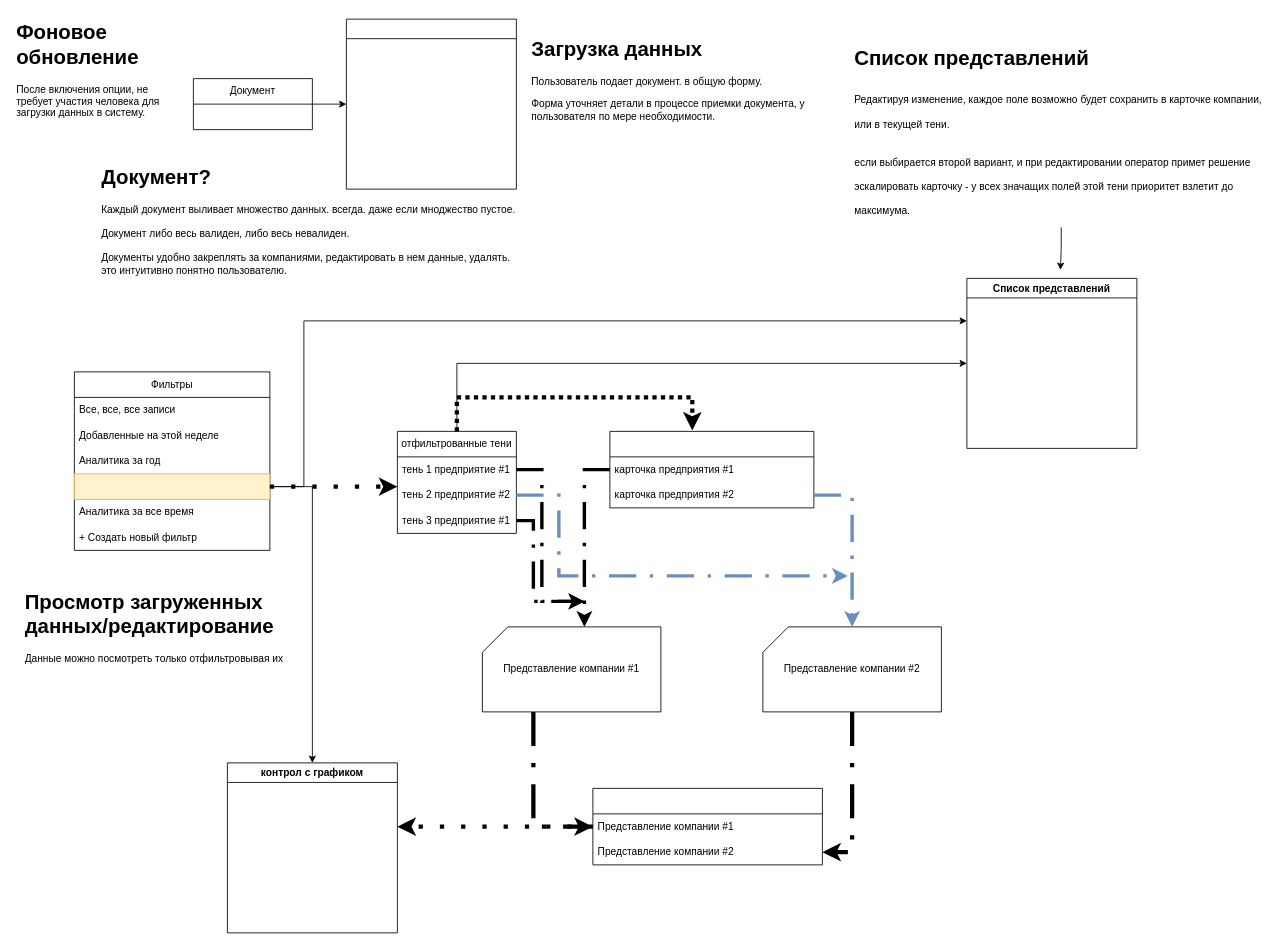
Image size: 1284x948. Some labels were removed from this diagram. The shapes that lost their labels are listed below. From the top down, each one's box as (x1, y1, x2, y2) in pixels, then its label:
(346, 18, 516, 189): Форма загрузки документов
(74, 473, 270, 499): Аналитика за 5 лет
(609, 431, 814, 508): безусловная тень каждой организации(подложка)
(592, 788, 822, 865): представления
